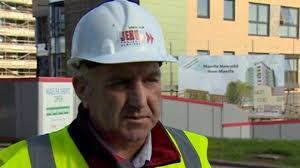hard hat: (70, 1, 177, 63)
high-vis: (1, 122, 209, 168)
